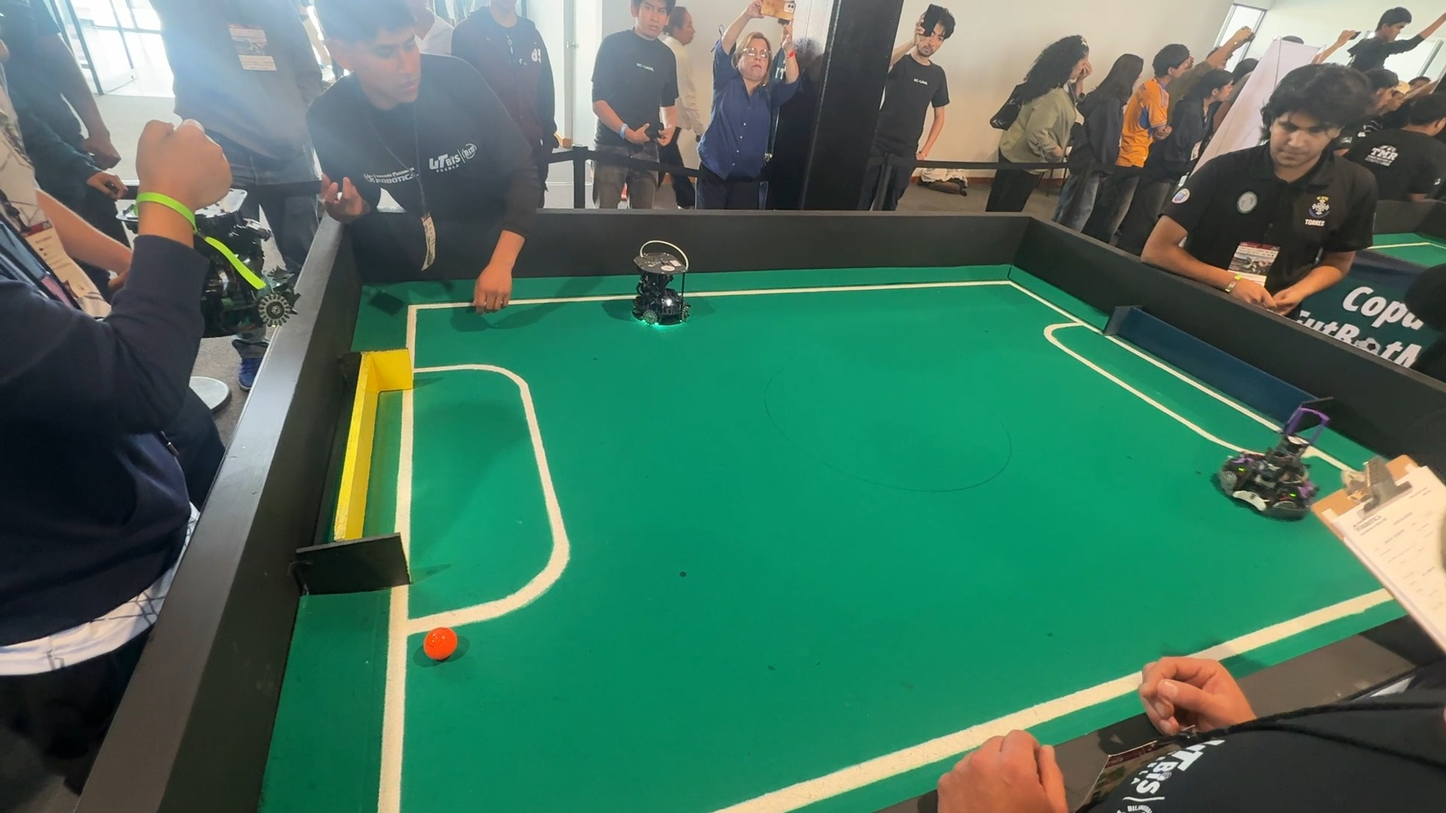Robot: (1199, 403, 1340, 531), (612, 241, 705, 343)
pelota: (416, 622, 464, 666)
